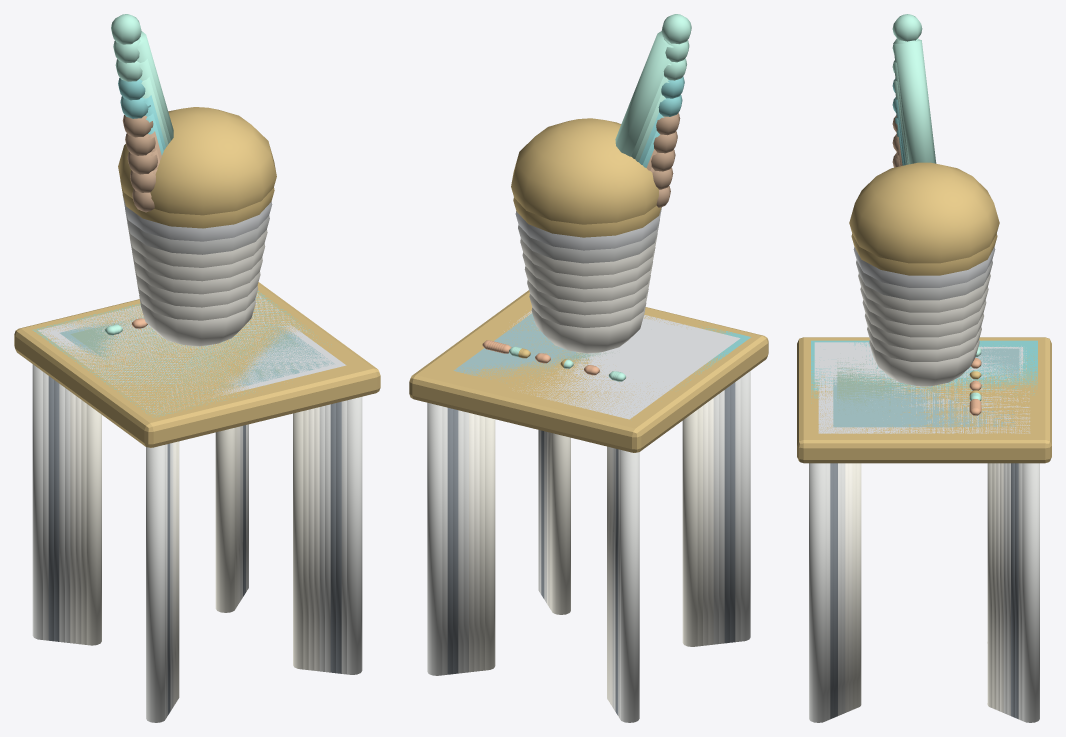
Rendered from Gear09.fbx.
3 renders of one model, left to right at view 1: azimuth 30°, elevation 25°; view 2: azimuth 150°, elevation 25°; view 3: azimuth 270°, elevation 25°, orthographic. The views are drawn at different scales.
Parts seen in each view (by area): view 1: Gear09_V10_Gold, Gear09_V10_Chrome, Gear09_V1_Ivory, Gear09_V7_Platinum, Gear09_V3_Linen, Gear09_V9_Gold, Gear09_V4_Linen, Gear09_V8_Aqua, Gear09_V9_Chrome, Gear09_V8_Graphite, Gear09_V2_Ivory, Gear09_V7_Graphite (+20 smaller); view 2: Gear09_V10_Gold, Gear09_V10_Chrome, Gear09_V1_Ivory, Gear09_V6_Platinum, Gear09_V3_Linen, Gear09_V4_Linen, Gear09_V4_Platinum, Gear09_V7_Graphite, Gear09_V9_Chrome, Gear09_V8_Graphite, Gear09_V6_Chrome, Gear09_V5_Chrome (+13 smaller); view 3: Gear09_V10_Gold, Gear09_V10_Chrome, Gear09_V2_Blue, Gear09_V10_Glow, Gear09_V9_Gold, Gear09_V4_Linen, Gear09_V6_Platinum, Gear09_V3_Linen, Gear09_V8_Aqua, Gear09_V1_Ivory, Gear09_V9_Chrome, Gear09_V5_Chrome (+14 smaller).
Boxes of the visible parts, left/top/right/bottom form: Gear09_V10_Gold: left=14, top=107, right=380, bottom=447; Gear09_V10_Chrome: left=32, top=364, right=362, bottom=722; Gear09_V1_Ivory: left=86, top=404, right=303, bottom=699; Gear09_V7_Platinum: left=38, top=293, right=306, bottom=413; Gear09_V3_Linen: left=75, top=266, right=314, bottom=704; Gear09_V9_Gold: left=27, top=180, right=335, bottom=419; Gear09_V4_Linen: left=70, top=252, right=319, bottom=706; Gear09_V8_Aqua: left=32, top=291, right=331, bottom=417; Gear09_V9_Chrome: left=43, top=372, right=346, bottom=718; Gear09_V8_Graphite: left=48, top=376, right=341, bottom=715; Gear09_V2_Ivory: left=81, top=400, right=308, bottom=701; Gear09_V7_Graphite: left=54, top=380, right=335, bottom=713; Gear09_V10_Gold: left=409, top=118, right=768, bottom=452; Gear09_V10_Chrome: left=427, top=371, right=750, bottom=722; Gear09_V1_Ivory: left=485, top=410, right=697, bottom=699; Gear09_V6_Platinum: left=512, top=315, right=740, bottom=419; Gear09_V3_Linen: left=474, top=275, right=708, bottom=704; Gear09_V4_Linen: left=469, top=261, right=713, bottom=706; Gear09_V4_Platinum: left=504, top=310, right=729, bottom=400; Gear09_V7_Graphite: left=453, top=386, right=729, bottom=713; Gear09_V9_Chrome: left=442, top=378, right=740, bottom=718; Gear09_V8_Graphite: left=447, top=382, right=735, bottom=715; Gear09_V6_Chrome: left=458, top=390, right=724, bottom=711; Gear09_V5_Chrome: left=463, top=394, right=718, bottom=708; Gear09_V10_Gold: left=797, top=162, right=1051, bottom=463; Gear09_V10_Chrome: left=809, top=463, right=1039, bottom=722; Gear09_V2_Blue: left=833, top=373, right=1015, bottom=427; Gear09_V10_Glow: left=892, top=14, right=981, bottom=400; Gear09_V9_Gold: left=807, top=234, right=1041, bottom=418; Gear09_V4_Linen: left=845, top=300, right=1003, bottom=712; Gear09_V6_Platinum: left=818, top=374, right=1030, bottom=433; Gear09_V3_Linen: left=849, top=313, right=999, bottom=711; Gear09_V8_Aqua: left=811, top=340, right=1037, bottom=403; Gear09_V1_Ivory: left=856, top=463, right=992, bottom=707; Gear09_V9_Chrome: left=826, top=463, right=1022, bottom=720; Gear09_V5_Chrome: left=841, top=463, right=1007, bottom=714.
Size of the model in its own units: 59.84 by 161 by 59.84.
